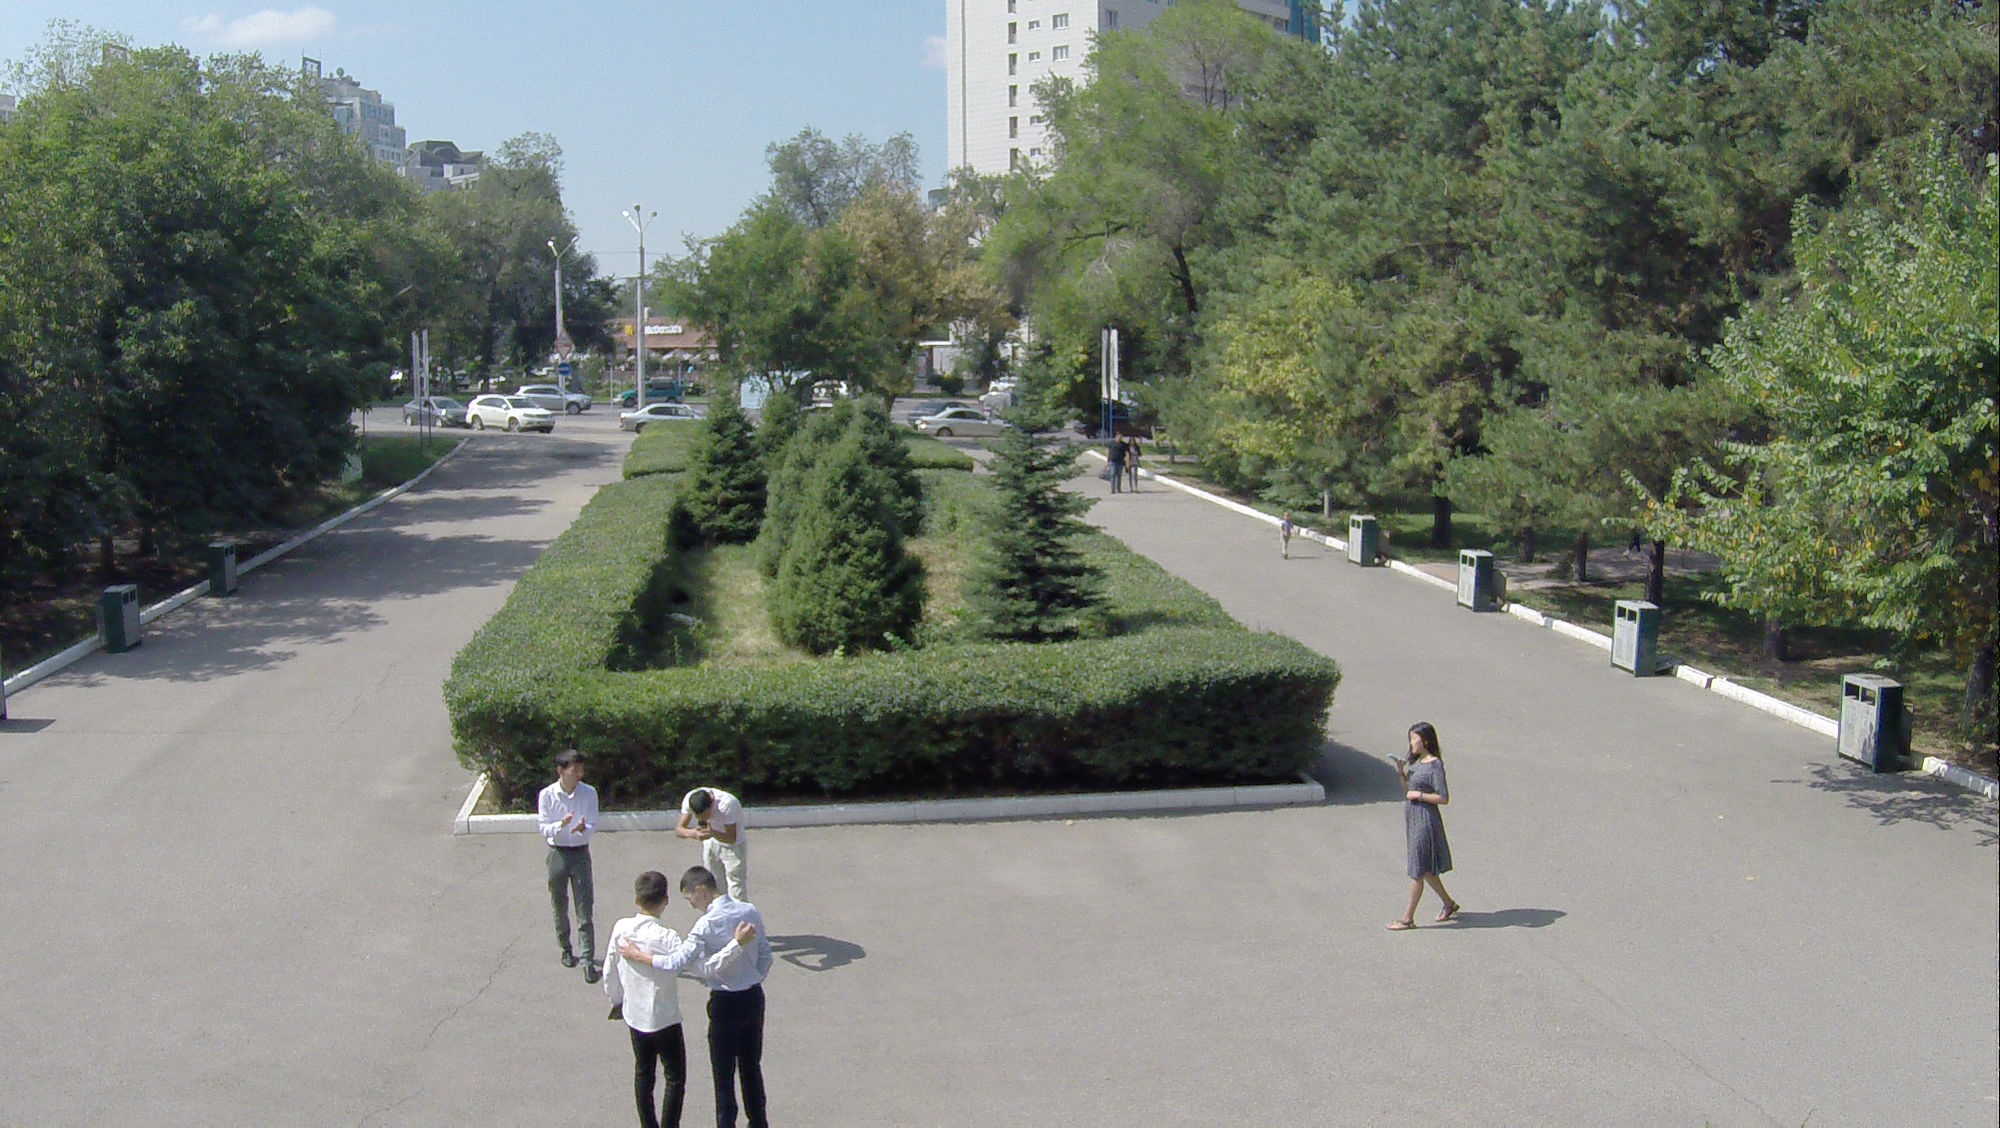person: (670, 853, 785, 1128), (599, 845, 693, 1128), (1385, 726, 1472, 930), (528, 778, 610, 978), (672, 787, 772, 914), (1103, 441, 1124, 494), (1126, 437, 1144, 495), (1274, 512, 1295, 555)
